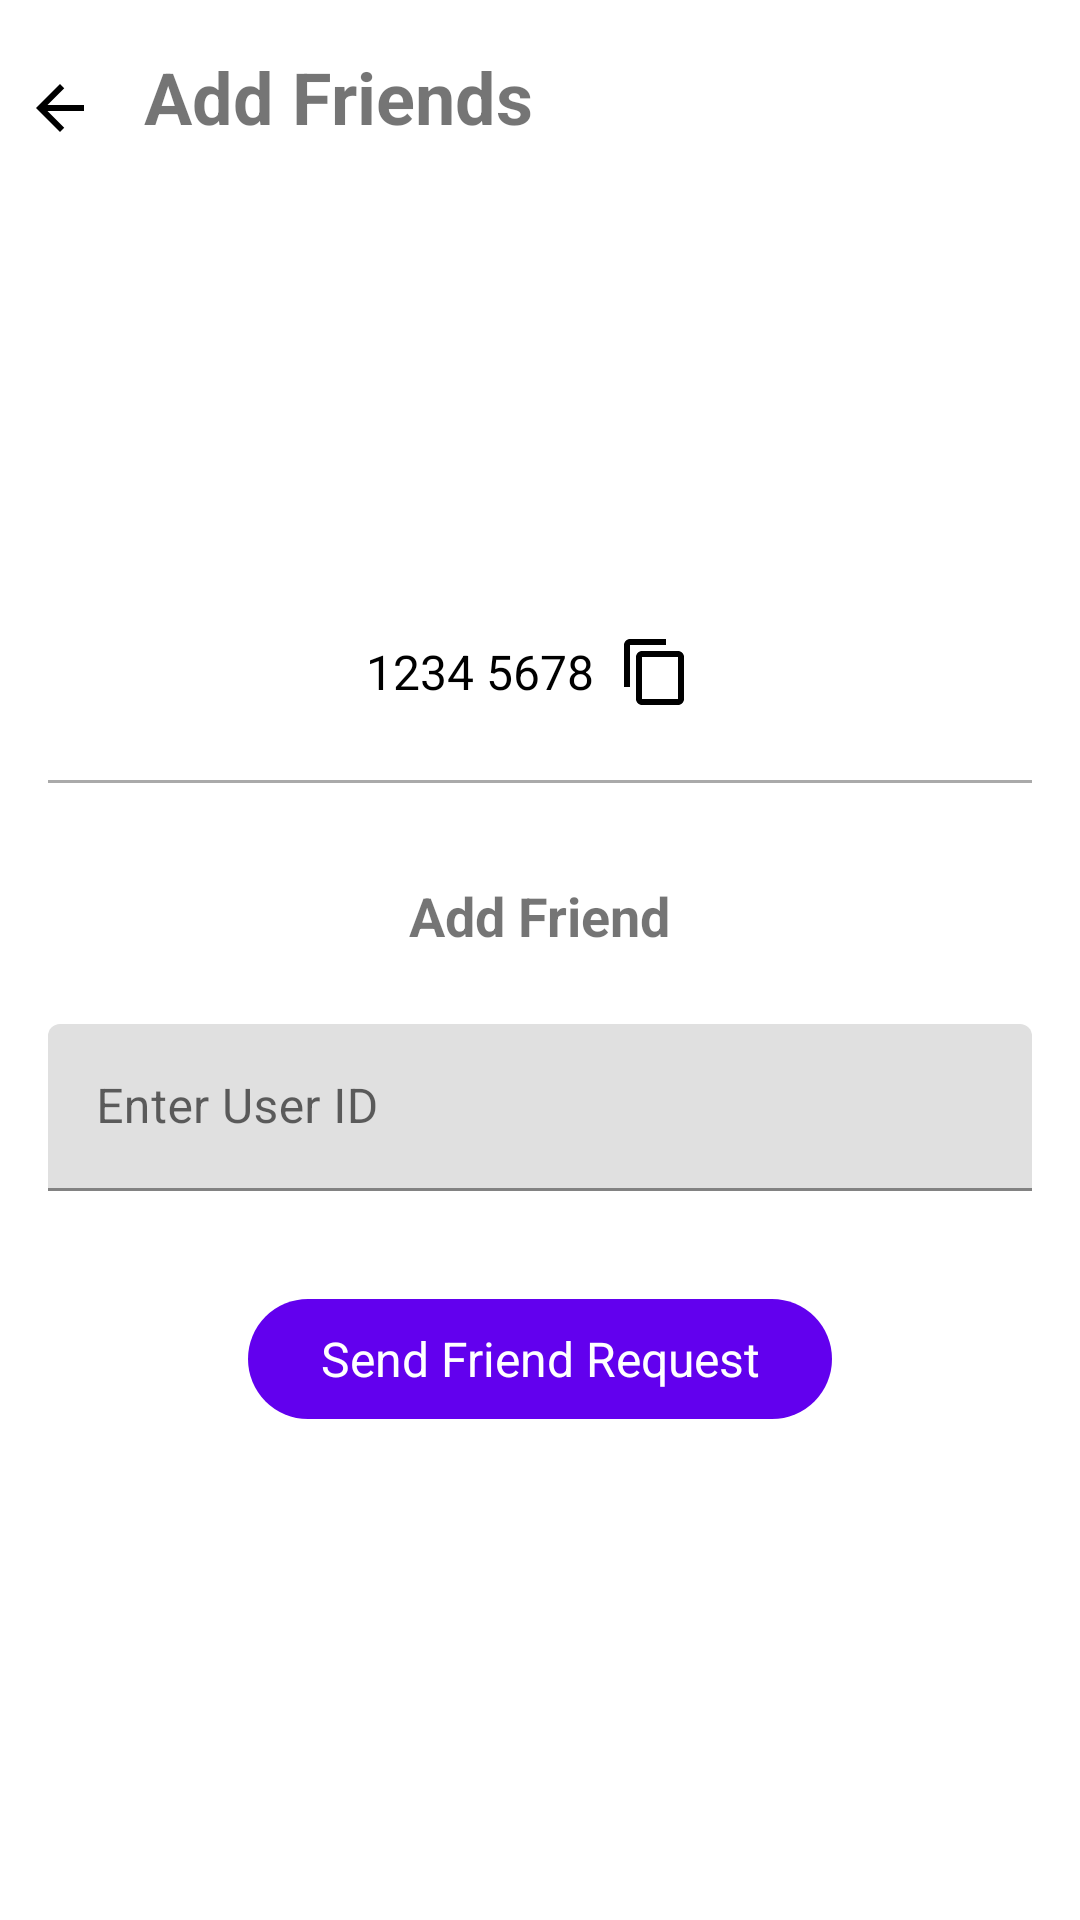

Point at icon controls on the screen. Image size 1080 × 1920, points as (x=x, y=y).
Back: (x=60, y=108)
Copy User ID: (x=654, y=672)
